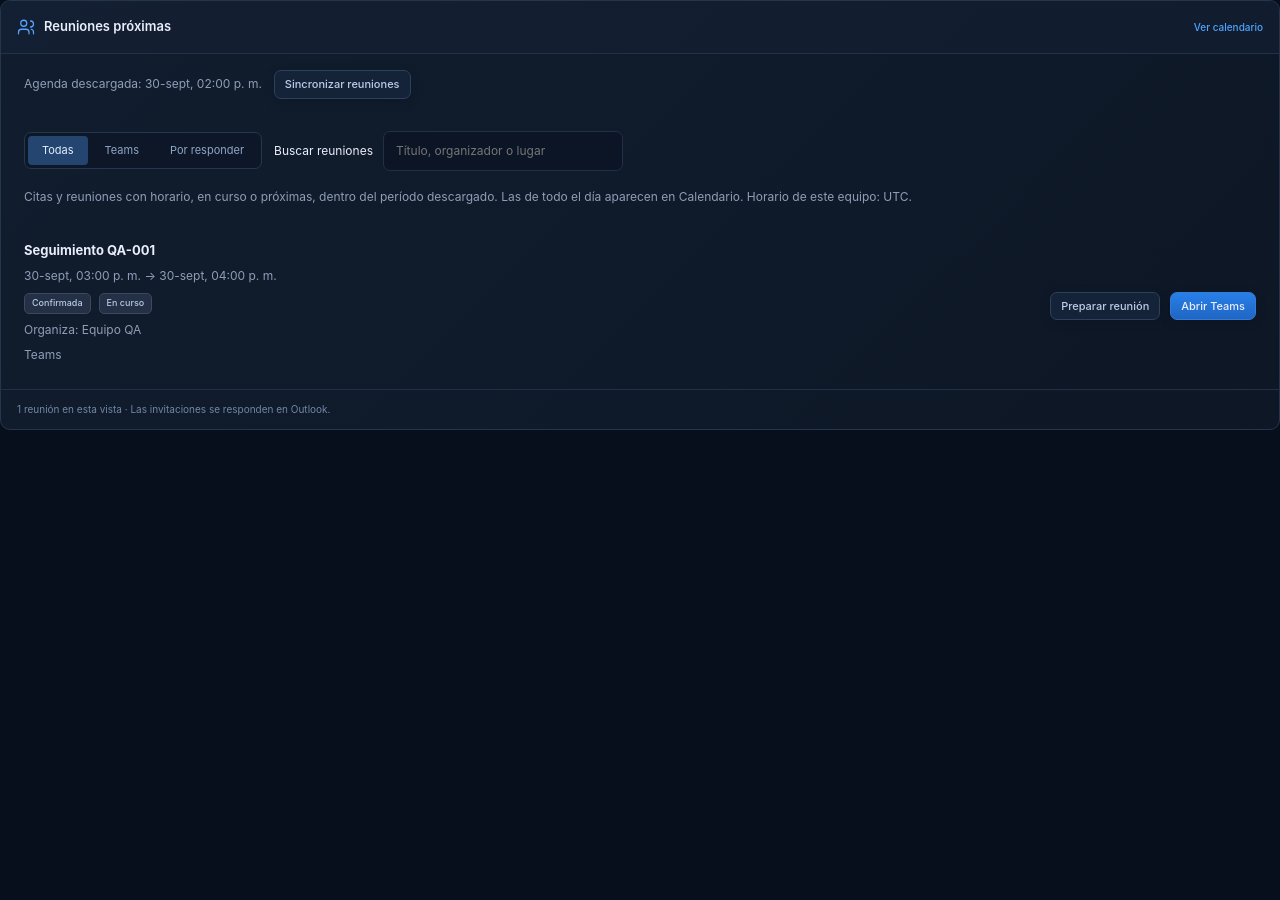
Scenario: permite preparar una reunión y editar solo pendientes del proyecto elegido
Click the button with aria-label "Preparar reunión: Seguimiento QA-001". click: [1105, 306]
box: x1=1050 y1=292 x2=1160 y2=320
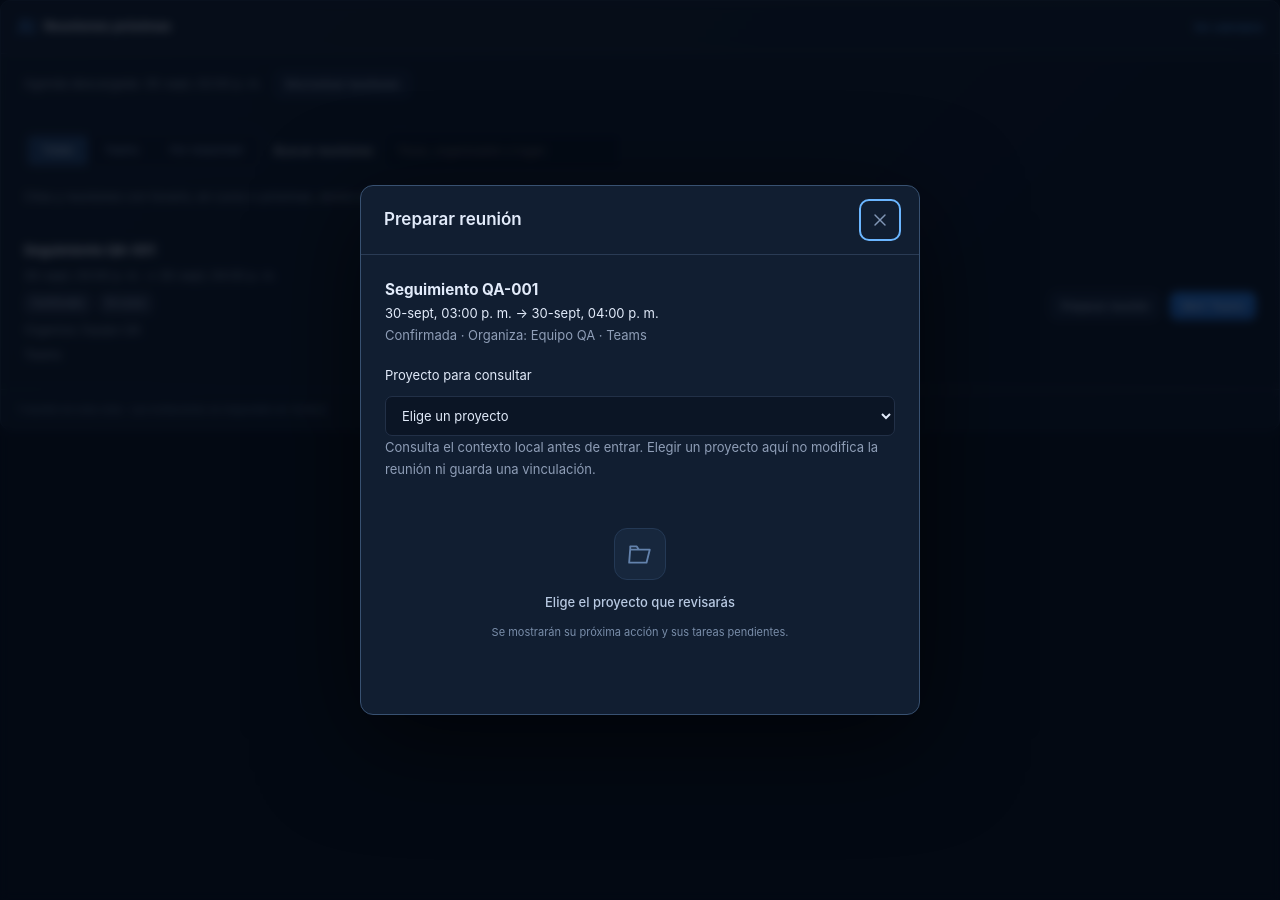
Now the text "Elige el proyecto que revisarás" is shown, box x1=545 y1=593 x2=735 y2=613
Select "Proyecto de pruebas · Coincide con el título" in the dropdown labelled "Proyecto para consultar". click: [640, 416]
box: x1=385 y1=396 x2=895 y2=436
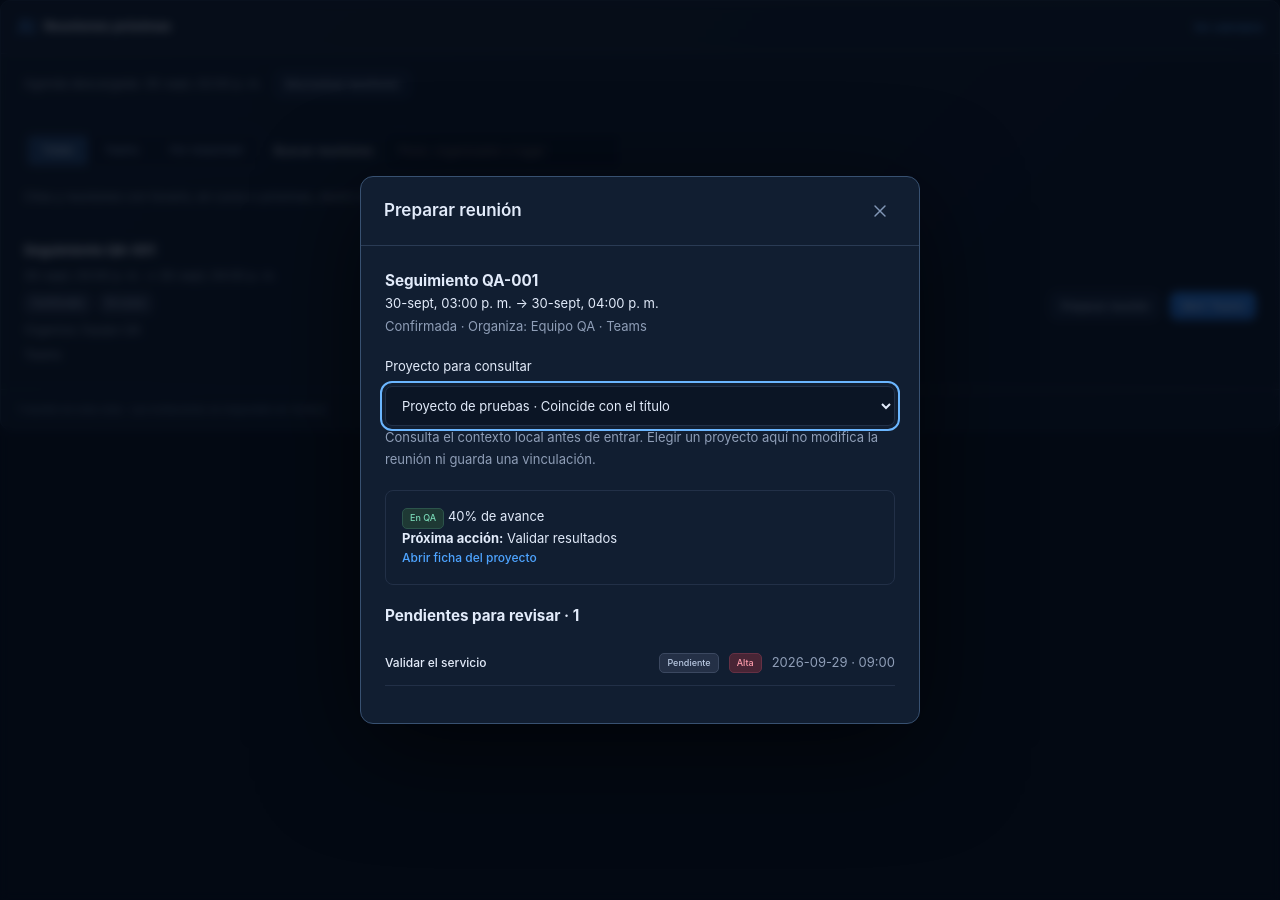
Now the text "Validar resultados" is shown, box x1=507 y1=530 x2=617 y2=546
Click the button "Validar el servicio". click: [436, 663]
box: x1=385 y1=654 x2=649 y2=672
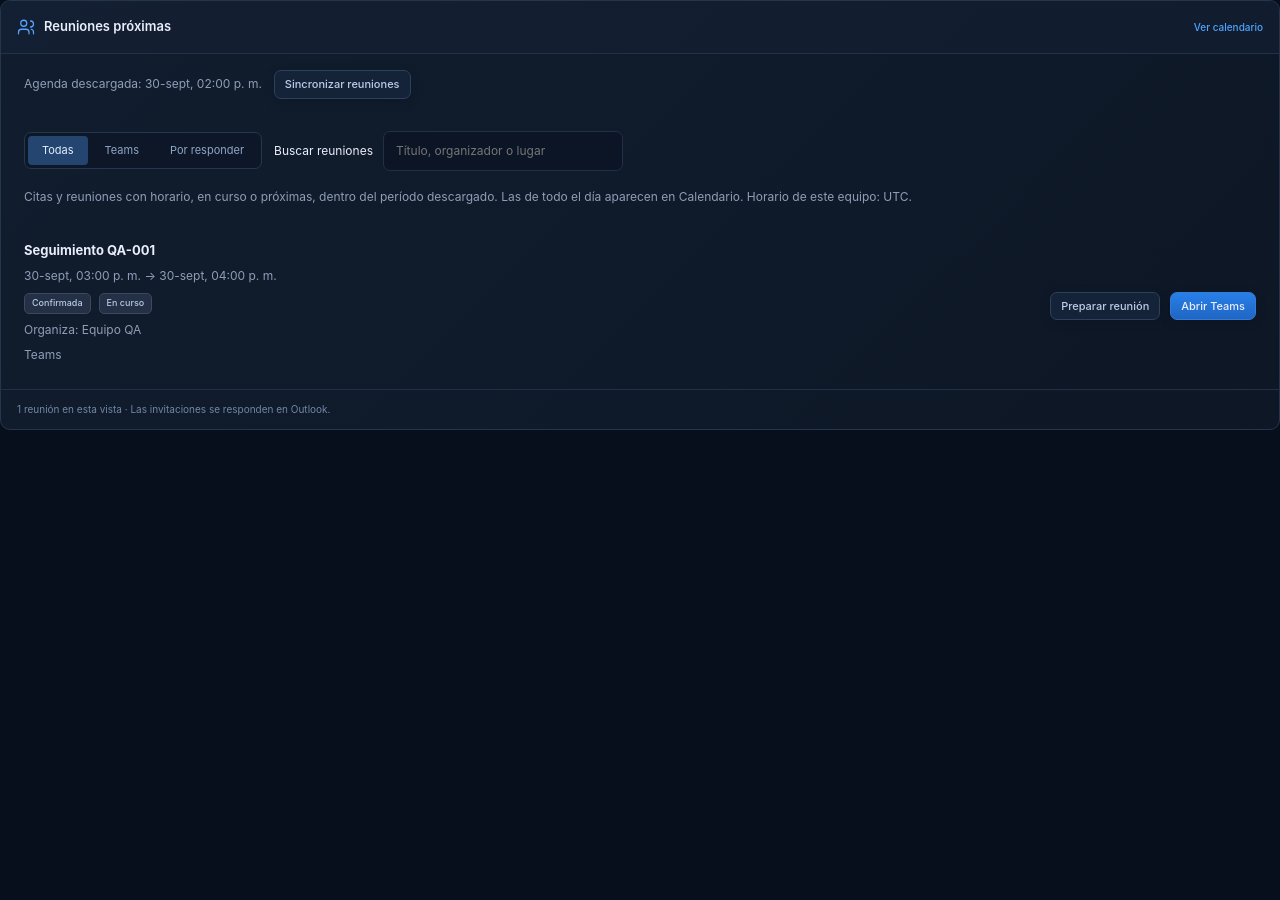
Now the dialog is gone
